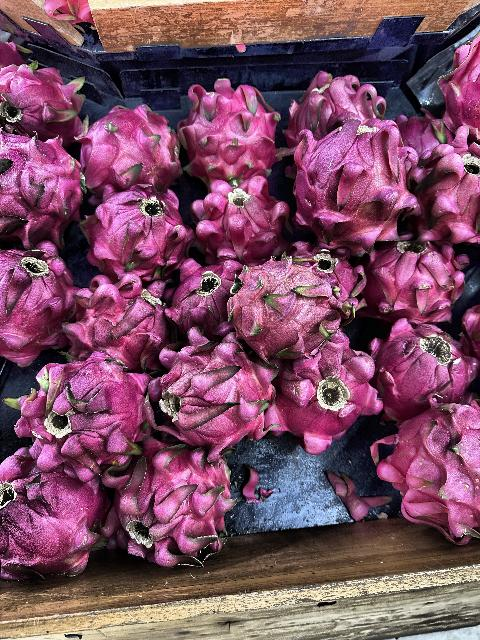buah-naga-matang: (100, 444, 230, 570), (374, 389, 480, 541), (0, 442, 106, 590), (288, 120, 411, 246), (148, 334, 272, 450), (26, 360, 144, 474), (272, 338, 380, 454), (227, 258, 341, 350), (365, 311, 471, 407), (68, 272, 170, 368), (73, 102, 178, 194), (78, 190, 190, 276), (176, 82, 283, 172), (0, 238, 74, 366), (0, 130, 80, 242), (197, 168, 295, 258), (418, 134, 480, 256), (367, 240, 465, 316), (0, 62, 90, 144), (297, 64, 385, 134), (166, 254, 234, 322), (442, 42, 480, 142)
